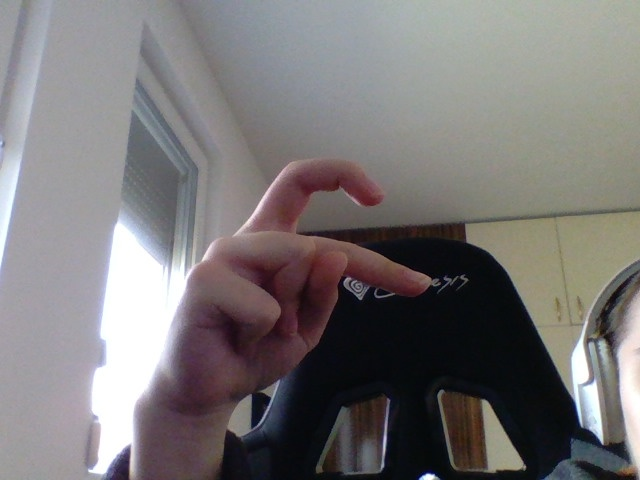HalfHeart: (153, 153, 431, 400)
